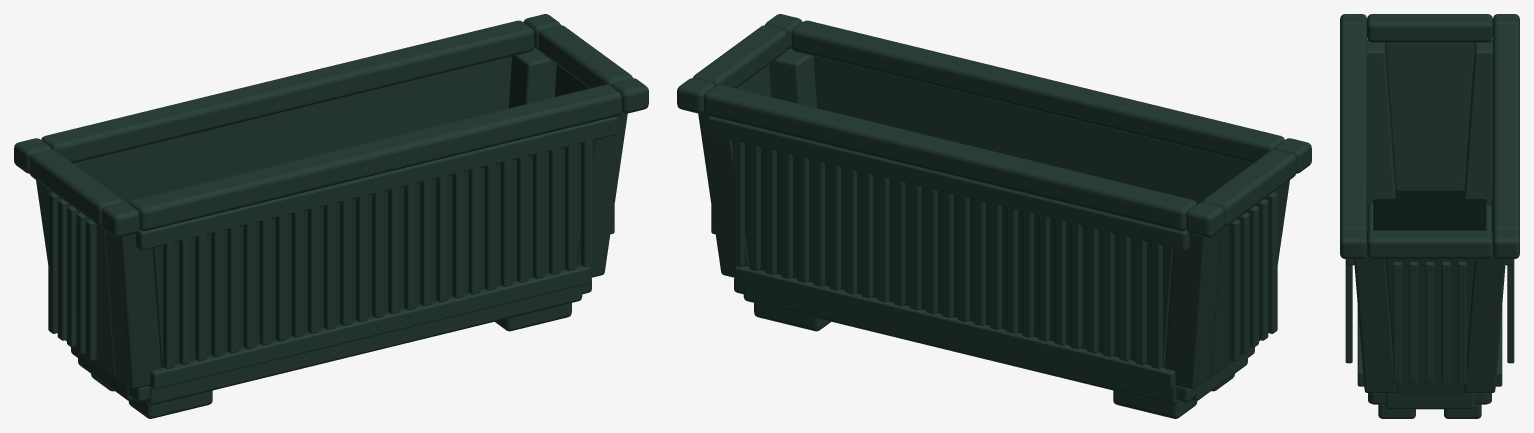
File: planter-modular.glb
3 renders of one model, left to right at view 1: azimuth 30°, elevation 25°; view 2: azimuth 150°, elevation 25°; view 3: azimuth 270°, elevation 25°, orthographic. The views are drawn at different scales.
Visible parts, largest first — view 1: SM_Body_Back_Center, SM_Rim_Edge_X_Front, SM_Body_Front_Center, SM_Rim_Edge_X_Back, SM_Band_Bottom_X_Front, SM_Band_Top_X_Front, SM_Skirt_X_Front, SM_Body_Corner_FL, SM_Body_Corner_FR, SM_Rim_Edge_Y_Left, SM_Rim_Edge_Y_Right, SM_Body_Corner_BR (+40 smaller); view 2: SM_Body_Front_Center, SM_Rim_Edge_X_Back, SM_Body_Back_Center, SM_Rim_Edge_X_Front, SM_Band_Top_X_Back, SM_Band_Bottom_X_Back, SM_Skirt_X_Back, SM_Body_Corner_BL, SM_Body_Corner_BR, SM_Rim_Edge_Y_Left, SM_Rim_Edge_Y_Right, SM_Body_Corner_FR (+40 smaller); view 3: SM_Body_Left_Center, SM_Body_Right_Center, SM_Rim_Edge_X_Back, SM_Rim_Edge_X_Front, SM_InnerShell, SM_Body_Corner_BR, SM_Body_Corner_FR, SM_Body_Corner_BL, SM_Body_Corner_FL, SM_Rim_Edge_Y_Left, SM_Rim_Edge_Y_Right, SM_Skirt_Y_Right (+18 smaller).
Boxes of the visible parts, x1,y1,x2,y2 form: SM_Body_Back_Center: (73,56,511,203); SM_Rim_Edge_X_Front: (129,84,621,231); SM_Body_Front_Center: (152,140,594,367); SM_Rim_Edge_X_Back: (41,20,534,163); SM_Band_Bottom_X_Front: (150,266,590,389); SM_Band_Top_X_Front: (136,116,617,250); SM_Skirt_X_Front: (145,285,582,404); SM_Body_Corner_FL: (104,230,161,389); SM_Body_Corner_FR: (576,112,627,277); SM_Rim_Edge_Y_Left: (29,149,123,226); SM_Rim_Edge_Y_Right: (538,25,632,88); SM_Body_Corner_BR: (509,48,556,108); SM_Body_Front_Center: (814,56,1252,203); SM_Rim_Edge_X_Back: (704,84,1196,231); SM_Body_Back_Center: (731,140,1173,367); SM_Rim_Edge_X_Front: (791,20,1284,163); SM_Band_Top_X_Back: (708,116,1189,250); SM_Band_Bottom_X_Back: (735,266,1175,389); SM_Skirt_X_Back: (743,285,1180,404); SM_Body_Corner_BL: (1164,230,1221,389); SM_Body_Corner_BR: (698,112,749,277); SM_Rim_Edge_Y_Left: (1202,149,1296,226); SM_Rim_Edge_Y_Right: (693,25,787,88); SM_Body_Corner_FR: (769,48,816,108); SM_Body_Left_Center: (1385,42,1474,190); SM_Body_Right_Center: (1385,259,1474,393); SM_Rim_Edge_X_Back: (1493,25,1519,234); SM_Rim_Edge_X_Front: (1340,25,1366,234); SM_InnerShell: (1373,190,1486,230); SM_Body_Corner_BR: (1464,255,1505,392); SM_Body_Corner_FR: (1354,255,1395,392); SM_Body_Corner_BL: (1464,39,1492,204); SM_Body_Corner_FL: (1367,39,1395,204); SM_Rim_Edge_Y_Left: (1367,14,1492,42); SM_Rim_Edge_Y_Right: (1367,230,1492,258); SM_Skirt_Y_Right: (1385,392,1474,409).
Bounding box in the file's own units: 0.6 × 0.25 × 0.2.
